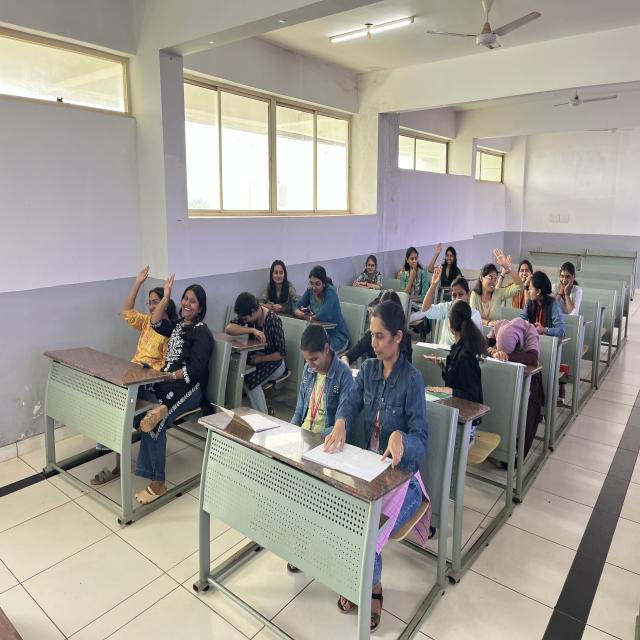Hand Rising: (152, 272, 213, 398), (121, 261, 174, 362), (423, 264, 475, 340), (474, 243, 520, 328), (428, 239, 466, 288)
Sleeping: (482, 308, 549, 388)
Using Phone: (292, 319, 355, 436), (294, 260, 345, 328)
